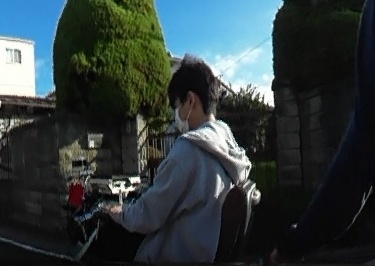person: (127, 51, 248, 266)
